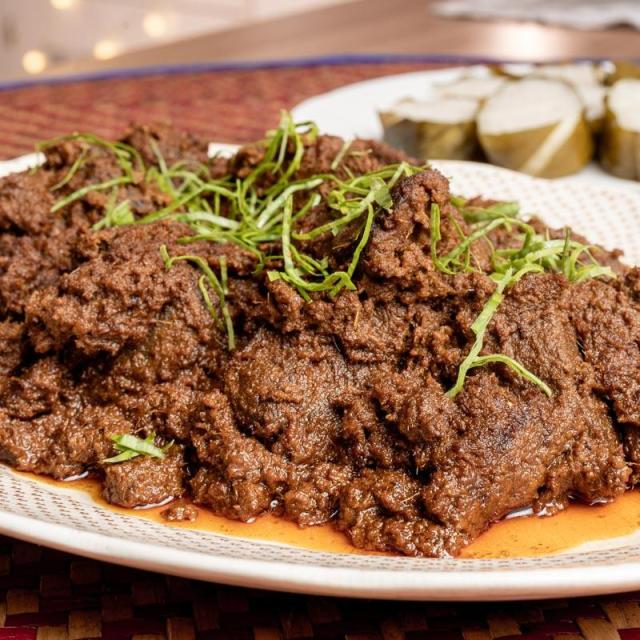Rendang: (1, 124, 640, 564)
